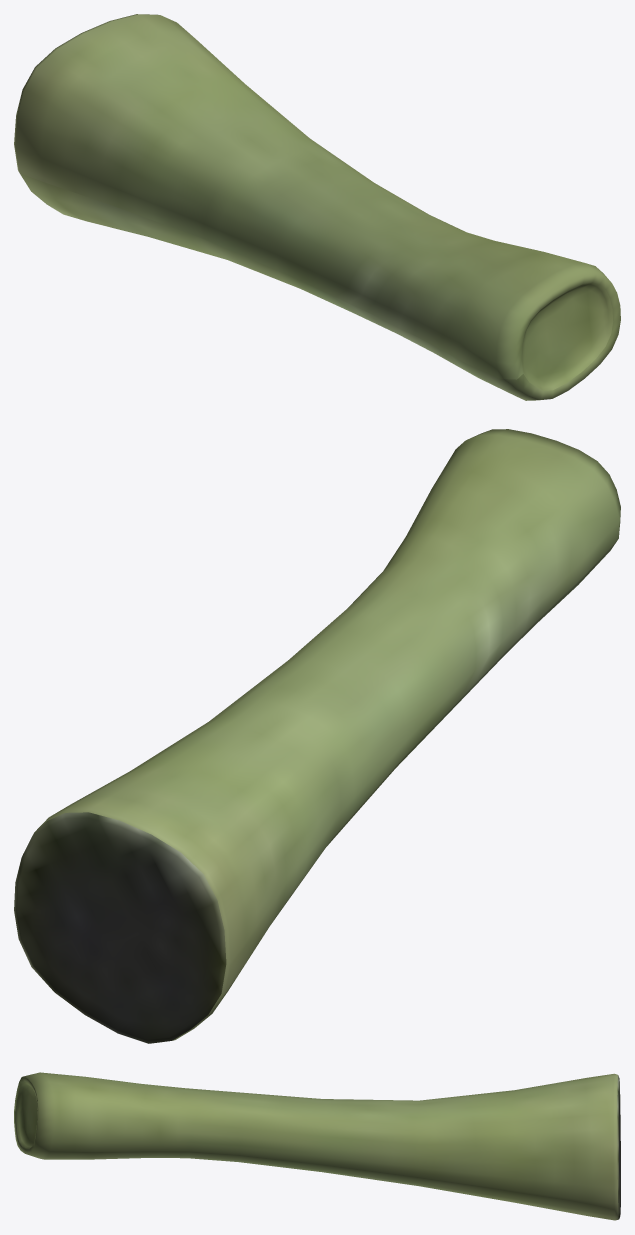
File: GreenTomatoPedicel.obj
3 views of the same model, one above another, from view 1: azimuth 30°, elevation 25°; view 2: azimuth 150°, elevation 25°; view 3: azimuth 270°, elevation 25° (orthographic). The views are drawn at different scales.
Parts seen in each view (by area): view 1: GreenTomatoPedicel; view 2: GreenTomatoPedicel; view 3: GreenTomatoPedicel.
Boxes of the visible parts, bbox=[...] form: GreenTomatoPedicel: bbox=[14, 14, 620, 400]; GreenTomatoPedicel: bbox=[14, 429, 620, 1043]; GreenTomatoPedicel: bbox=[14, 1072, 620, 1220].
Size of the model in its own units: 0.00631 by 0.00645 by 0.0227.
1 material, 1 textured.
